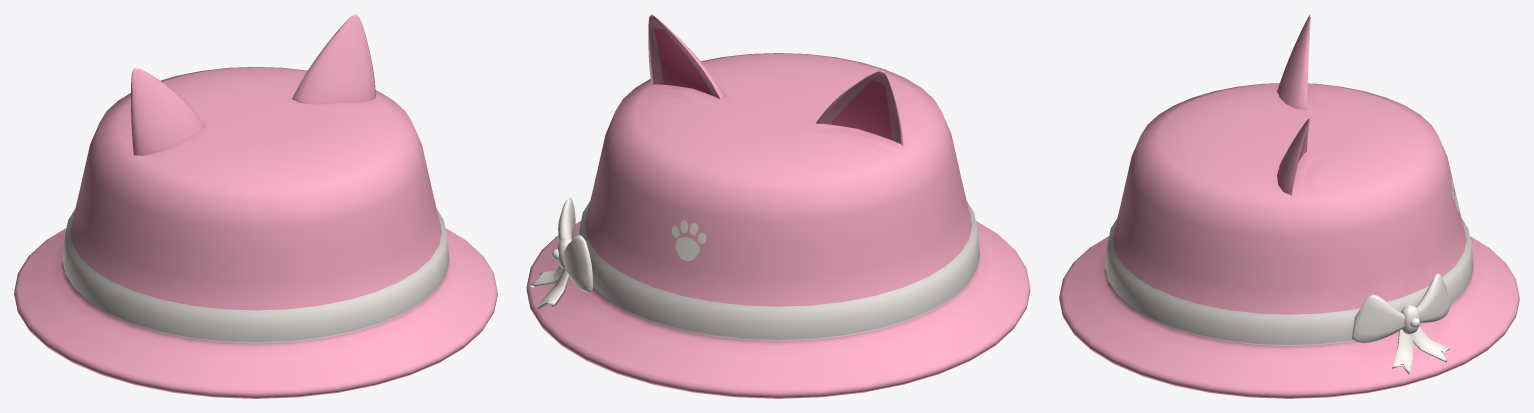
The model's file is NekoBucketHat.obj.
3 renders of one model, left to right at view 1: azimuth 30°, elevation 25°; view 2: azimuth 150°, elevation 25°; view 3: azimuth 270°, elevation 25°, orthographic. The views are drawn at different scales.
Parts seen in each view (by area): view 1: NekoBucketHat; view 2: NekoBucketHat; view 3: NekoBucketHat.
Boxes of the visible parts, x1,y1,x2,y2 form: NekoBucketHat: (14,14,497,398); NekoBucketHat: (526,14,1030,398); NekoBucketHat: (1059,14,1519,398).
Size of the model in its own units: 1.74 by 0.9888 by 1.74.
Materials: 1 (1 with a texture image).
